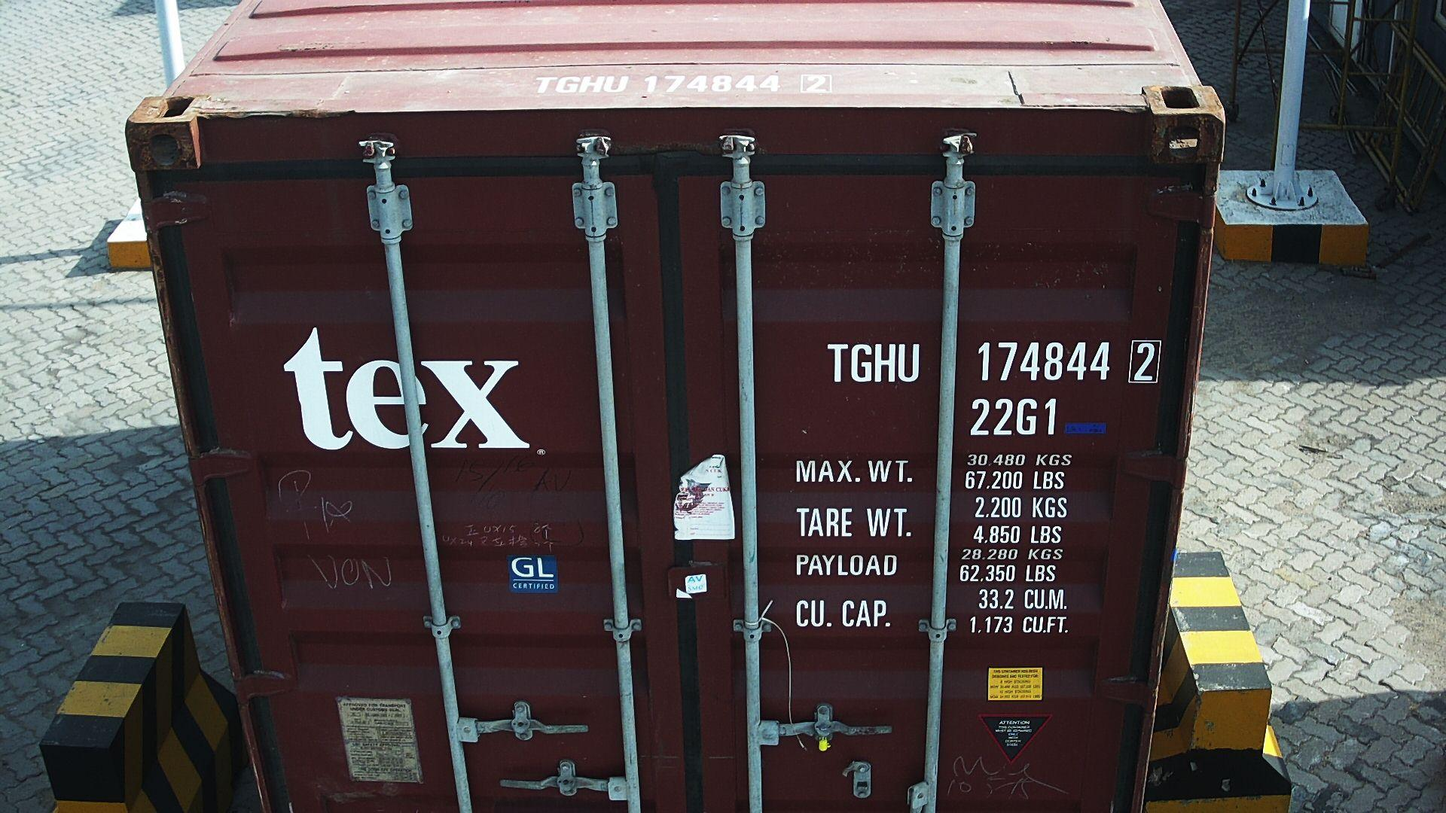container-numbers: (822, 336, 1166, 388), (526, 70, 840, 95), (966, 394, 1060, 438)
